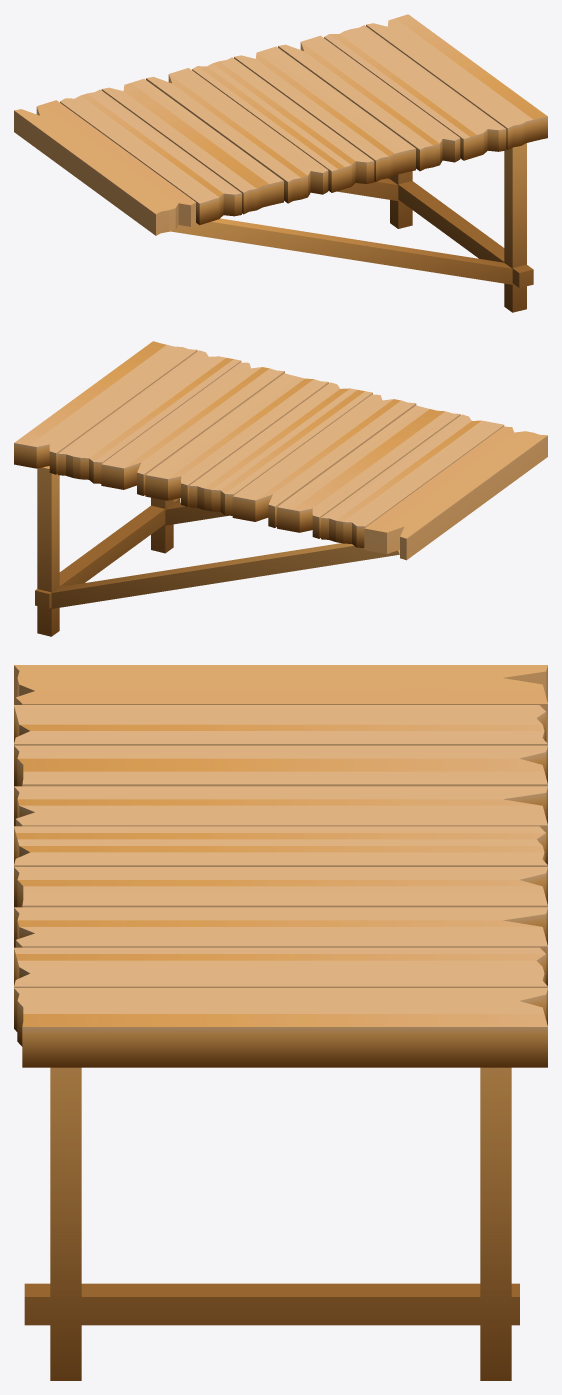
File: laituri.fbx
The picture shows the model from 3 angles, top to bottom: view 1: azimuth 30°, elevation 25°; view 2: azimuth 150°, elevation 25°; view 3: azimuth 270°, elevation 25°; orthographic projection. The views are drawn at different scales.
Visible parts, largest first — view 1: Cube.003; view 2: Cube.003; view 3: Cube.003.
Boxes of the visible parts, bbox=[...] form: Cube.003: bbox=[14, 14, 547, 312]; Cube.003: bbox=[14, 341, 547, 636]; Cube.003: bbox=[14, 665, 547, 1380].
Size of the model in its own units: 11.98 by 5.66 by 7.47.
